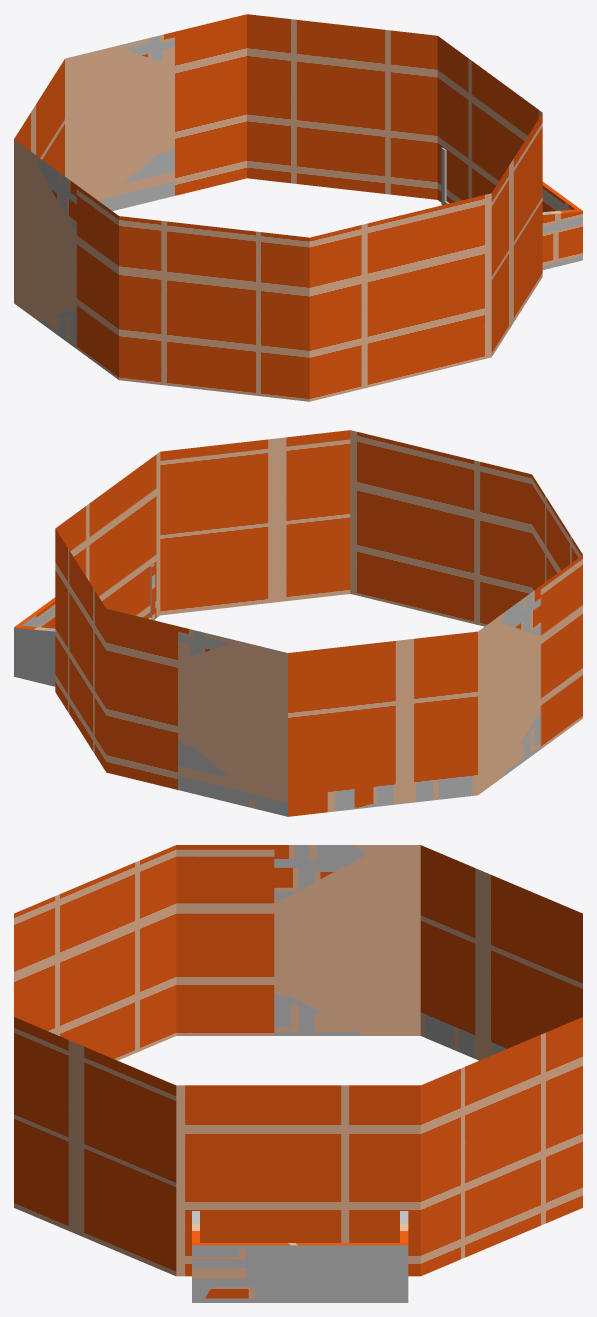
File: tek_balkonlu_kat.fbx
The picture shows the model from 3 angles, top to bottom: view 1: azimuth 30°, elevation 25°; view 2: azimuth 150°, elevation 25°; view 3: azimuth 270°, elevation 25°; orthographic projection. The views are drawn at different scales.
Parts seen in each view (by area): view 1: Cube.002; view 2: Cube.002; view 3: Cube.002.
Boxes of the visible parts, bbox=[...] form: Cube.002: bbox=[14, 14, 582, 401]; Cube.002: bbox=[14, 430, 582, 816]; Cube.002: bbox=[14, 845, 582, 1302].
Bounding box in the file's own units: 222 × 74.06 × 200.
